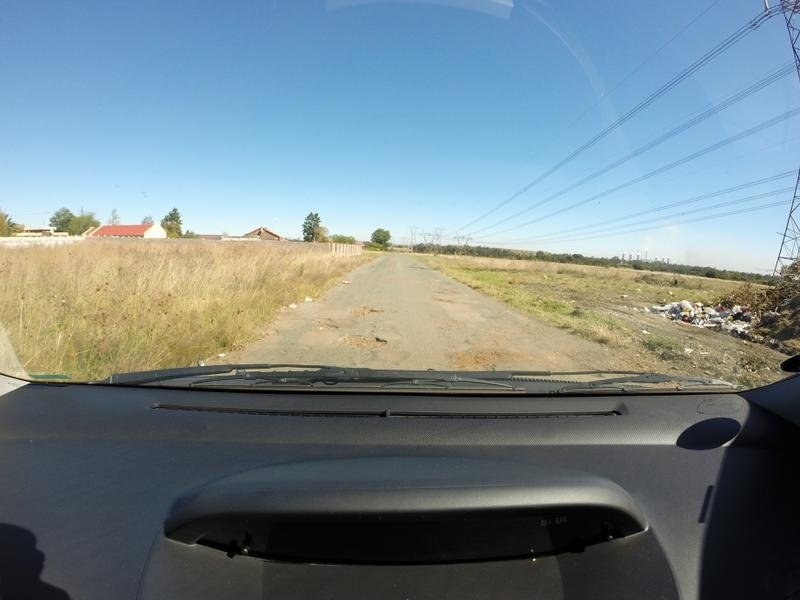pothole: (454, 344, 498, 370), (340, 333, 388, 347), (344, 302, 381, 319), (318, 313, 332, 323), (318, 321, 337, 328)
